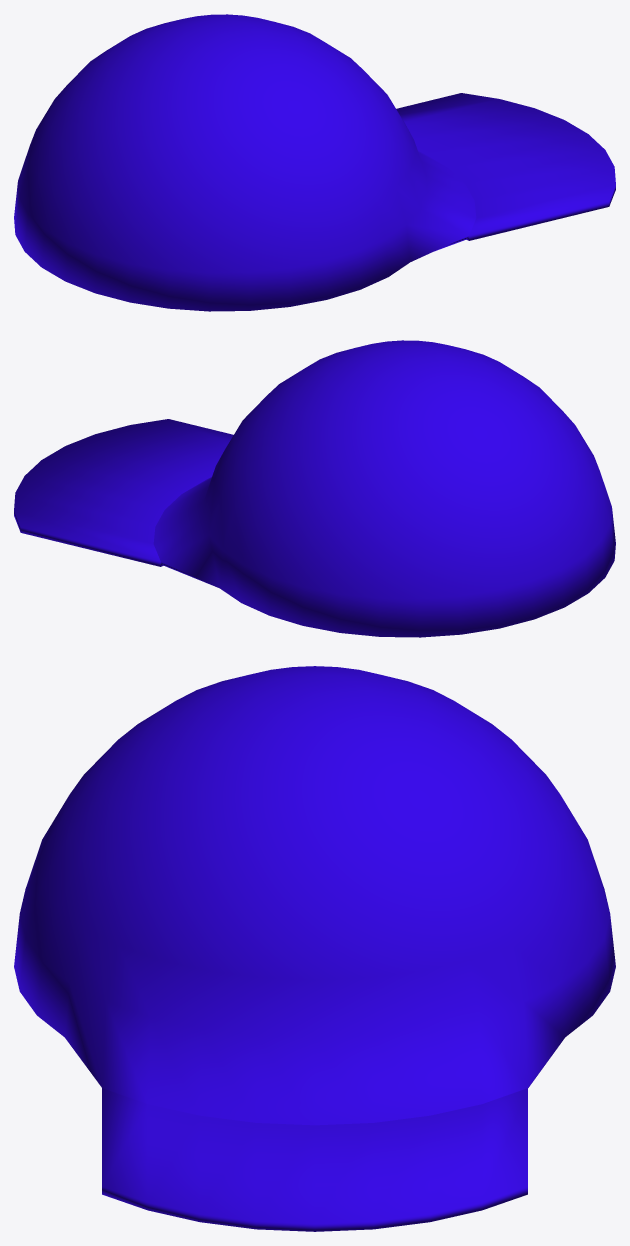
Rendered from Hat.fbx.
The picture shows the model from 3 angles, top to bottom: view 1: azimuth 30°, elevation 25°; view 2: azimuth 150°, elevation 25°; view 3: azimuth 270°, elevation 25°; orthographic projection. The views are drawn at different scales.
Parts seen in each view (by area): view 1: Sphere; view 2: Sphere; view 3: Sphere.
Part boxes in pixels (<box>): Sphere: <box>14,14,615,311</box>; Sphere: <box>14,340,615,637</box>; Sphere: <box>14,666,615,1231</box>.
Size of the model in its own units: 302 by 103 by 200.
